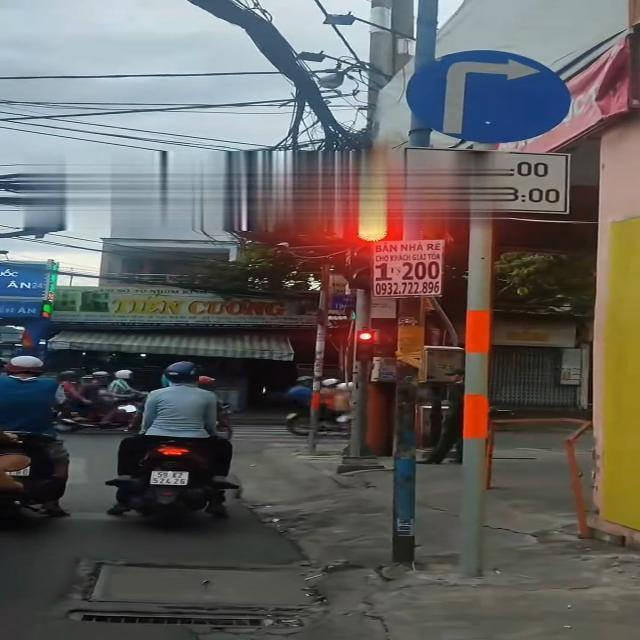301d-cac-xe-chi-duoc-re-phai-2: (406, 50, 568, 143)
